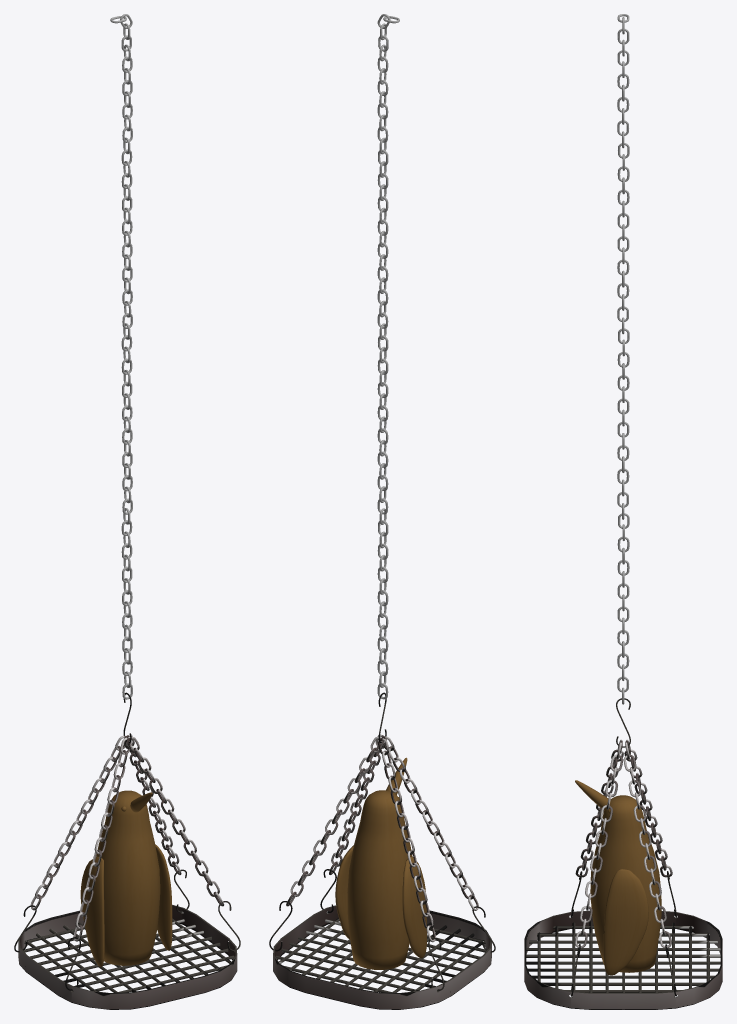
The model's file is rihuto_Pdown_P.fbx.
3 renders of one model, left to right at view 1: azimuth 30°, elevation 25°; view 2: azimuth 150°, elevation 25°; view 3: azimuth 270°, elevation 25°, orthographic.
Visible parts, largest first — view 1: rihuto_P_L; view 2: rihuto_P_L; view 3: rihuto_P_L.
Boxes of the visible parts, bbox=[...] form: rihuto_P_L: bbox=[14, 14, 240, 1009]; rihuto_P_L: bbox=[269, 14, 495, 1009]; rihuto_P_L: bbox=[524, 14, 722, 1009].
Bounding box in the file's own units: 59.85 × 310 × 58.65.
3 materials, 2 textured.
